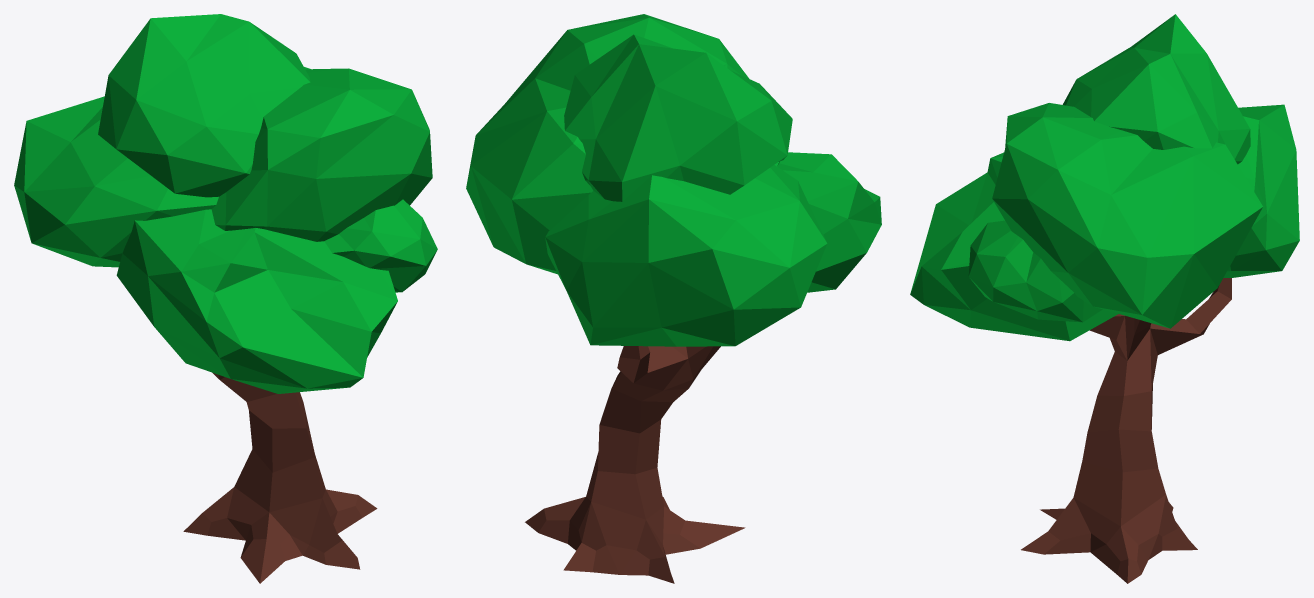
File: TreeA_03.fbx
3 renders of one model, left to right at view 1: azimuth 30°, elevation 25°; view 2: azimuth 150°, elevation 25°; view 3: azimuth 270°, elevation 25°, orthographic. The views are drawn at different scales.
Parts seen in each view (by area): view 1: TreeA_03; view 2: TreeA_03; view 3: TreeA_03.
Boxes of the visible parts, left/top/right/bottom form: TreeA_03: left=14, top=14, right=437, bottom=583; TreeA_03: left=466, top=14, right=881, bottom=583; TreeA_03: left=910, top=14, right=1299, bottom=583.
Bounding box in the file's own units: 8.35 × 11.71 × 8.62.
